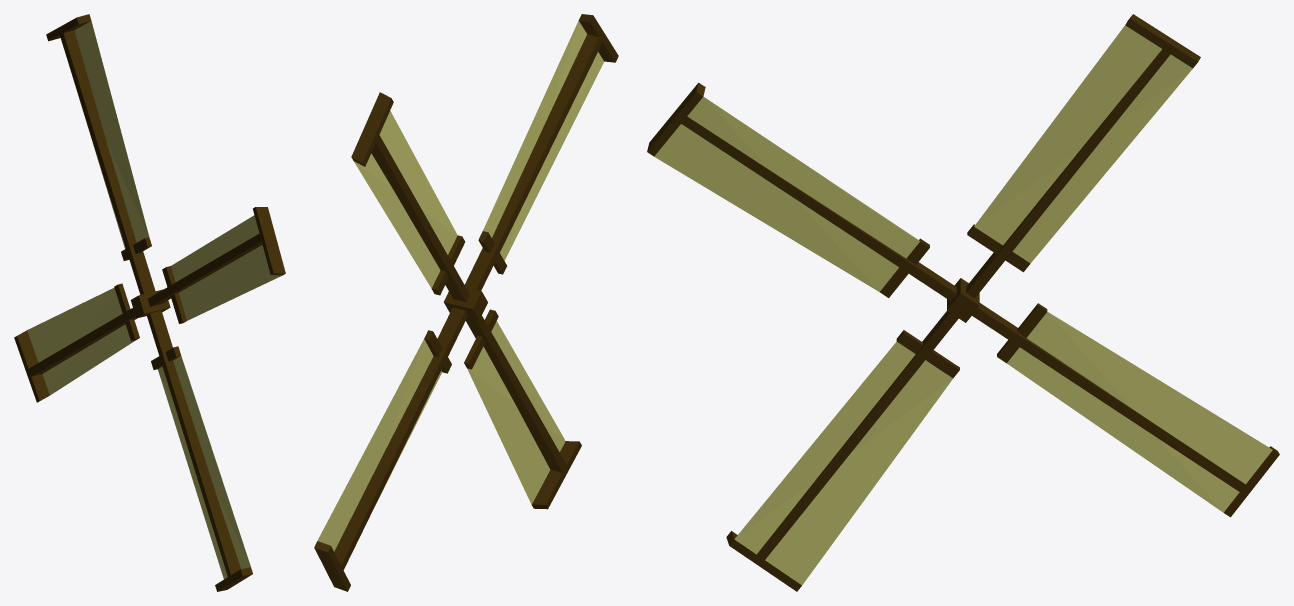
Rendered from town_blades0012.obj.
3 views of the same model, side by side, from view 1: azimuth 30°, elevation 25°; view 2: azimuth 150°, elevation 25°; view 3: azimuth 270°, elevation 25° (orthographic). The views are drawn at different scales.
Visible parts, largest first — view 1: Sails; view 2: Sails; view 3: Sails.
Boxes of the visible parts, x1,y1,x2,y2 form: Sails: [14, 14, 285, 591]; Sails: [314, 14, 618, 591]; Sails: [647, 14, 1279, 591].
Bounding box in the file's own units: 0.5135 × 8.84 × 8.84.
